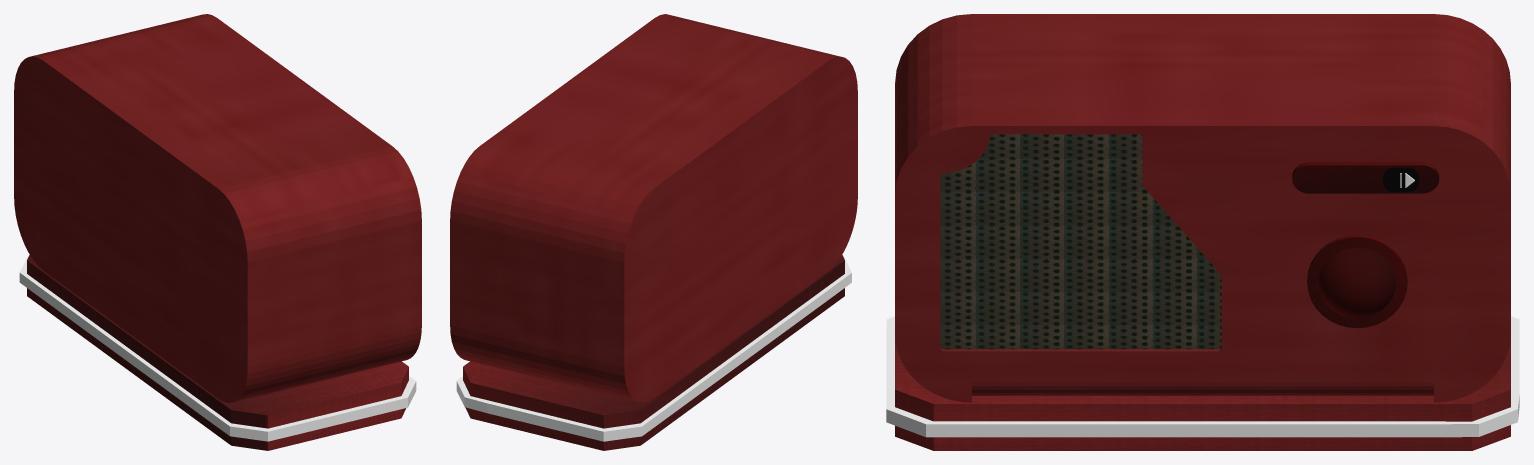
Rendered from radio.fbx.
The picture shows the model from 3 angles, left to right: view 1: azimuth 30°, elevation 25°; view 2: azimuth 150°, elevation 25°; view 3: azimuth 270°, elevation 25°; orthographic projection. The views are drawn at different scales.
Visible parts, largest first — view 1: Cube.002, Cube, Cube.001; view 2: Cube.002, Cube, Cube.001; view 3: Cube.002, Plane, Cube, Cube.001, Sphere, Cube.003, Cylinder, Cube.004.
Boxes of the visible parts, x1,y1,x2,y2 form: Cube.002: (14, 14, 421, 402); Cube: (27, 255, 408, 450); Cube.001: (19, 256, 416, 441); Cube.002: (450, 14, 857, 402); Cube: (463, 255, 844, 450); Cube.001: (456, 256, 851, 441); Cube.002: (895, 14, 1510, 402); Plane: (940, 134, 1221, 349); Cube: (895, 334, 1510, 450); Cube.001: (886, 316, 1519, 437); Sphere: (1318, 247, 1395, 318); Cube.003: (1292, 162, 1439, 193); Cylinder: (1307, 235, 1407, 328); Cube.004: (1382, 167, 1419, 191).
Size of the model in its own units: 99.76 by 116 by 206.
